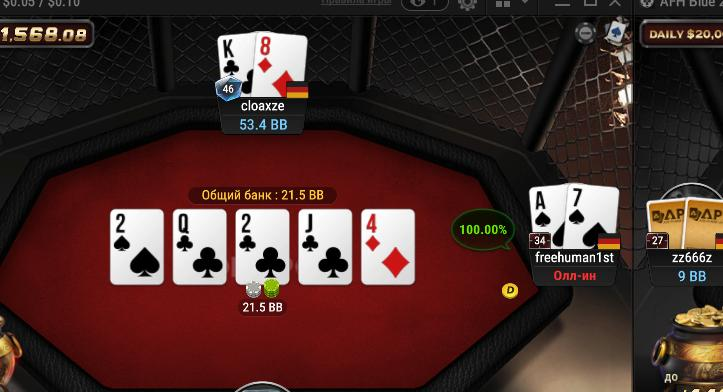2c: (236, 210, 288, 282)
2s: (112, 211, 163, 285)
4d: (360, 209, 414, 286)
7s: (568, 186, 620, 249)
8d: (255, 31, 306, 96)
As: (528, 185, 566, 248)
Jc: (300, 209, 352, 283)
Kc: (217, 34, 255, 97)
Qc: (174, 211, 226, 284)
